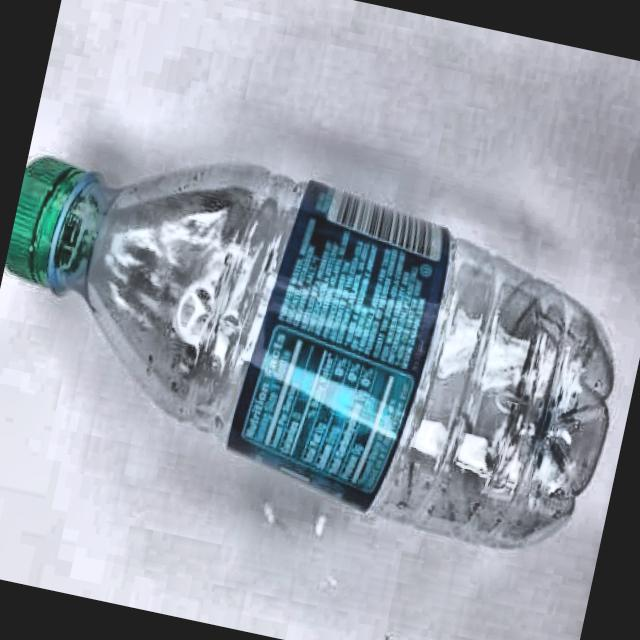plastic bottle: (5, 158, 614, 547)
